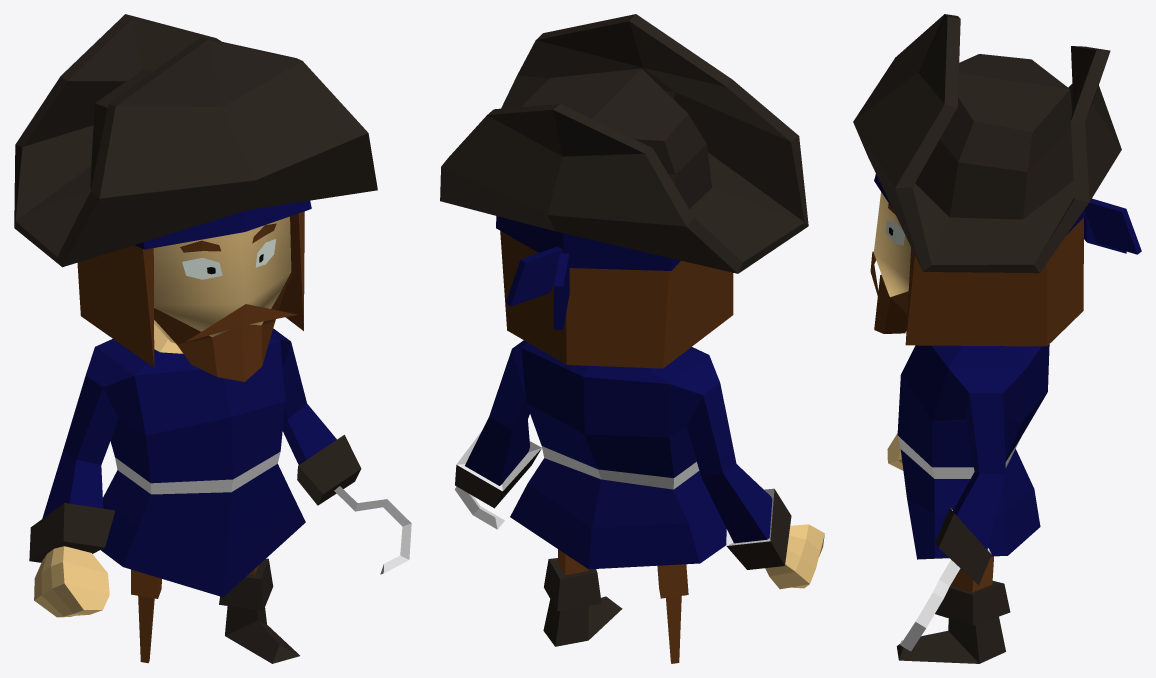
File: Pirate.fbx
3 views of the same model, side by side, from view 1: azimuth 30°, elevation 25°; view 2: azimuth 150°, elevation 25°; view 3: azimuth 270°, elevation 25° (orthographic). The views are drawn at different scales.
Parts seen in each view (by area): view 1: Torso, Hat, Hair, Beard2, Legs, Hand, Bandana, Hook, Eyes; view 2: Hat, Torso, Hair, Bandana, Legs, Hand, Hook; view 3: Hat, Torso, Hair, Legs, Bandana, Beard2, Hook.
Boxes of the visible parts, x1,y1,x2,y2 form: Torso: (29,216,361,597); Hat: (14,14,377,267); Hair: (77,211,304,367); Beard2: (154,273,297,381); Legs: (131,558,299,663); Hand: (34,546,109,617); Bandana: (134,200,311,249); Hook: (334,486,411,574); Eyes: (182,239,275,279); Hat: (440,14,808,273); Torso: (455,340,791,569); Hair: (500,231,733,368); Bandana: (496,216,680,330); Legs: (543,549,688,663); Hand: (765,524,824,589); Hook: (455,486,504,529); Hat: (853,14,1121,273); Torso: (873,192,1049,585); Hair: (905,218,1083,346); Legs: (896,556,1010,663); Bandana: (874,174,1141,254); Beard2: (870,251,908,333); Hook: (900,560,960,651).
Size of the model in its own units: 115 by 187 by 79.63.
